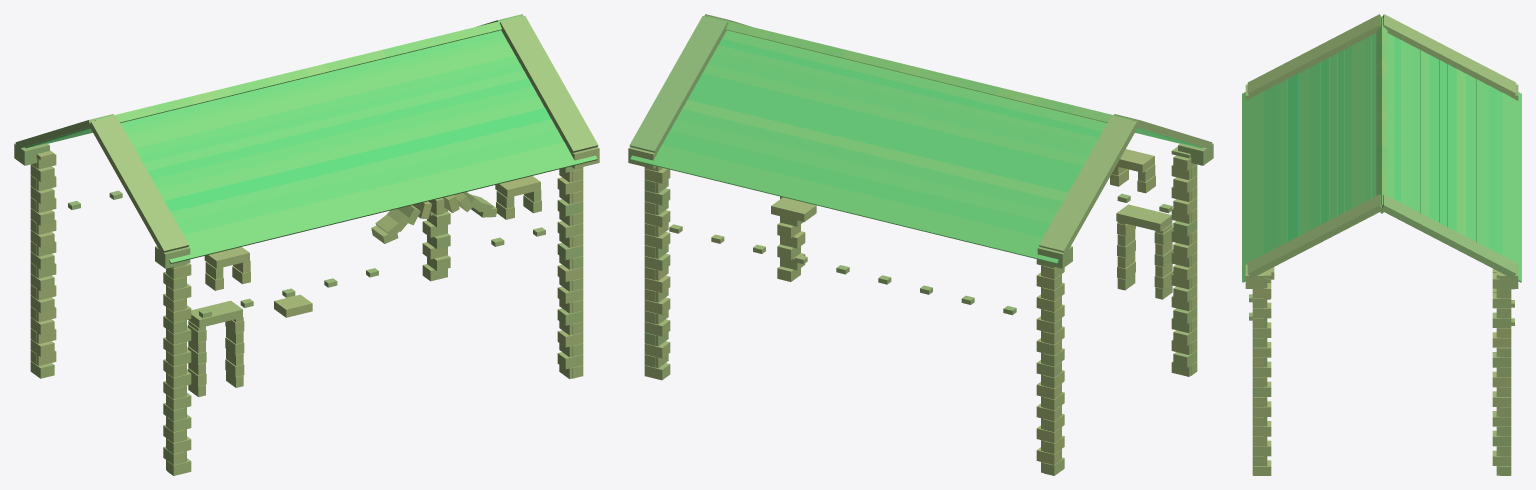
Rendered from SM_Bld_002_Stone.glb.
3 renders of one model, left to right at view 1: azimuth 30°, elevation 25°; view 2: azimuth 150°, elevation 25°; view 3: azimuth 270°, elevation 25°, orthographic. The views are drawn at different scales.
Visible parts, largest first — view 1: SM_Bld_002_Stone; view 2: SM_Bld_002_Stone; view 3: SM_Bld_002_Stone.
Boxes of the visible parts, x1=… form: SM_Bld_002_Stone: x1=14, y1=14, x2=599, y2=475; SM_Bld_002_Stone: x1=628, y1=14, x2=1213, y2=475; SM_Bld_002_Stone: x1=1242, y1=14, x2=1521, y2=475.
Bounding box in the file's own units: 12.48 × 8.4 × 7.71.
